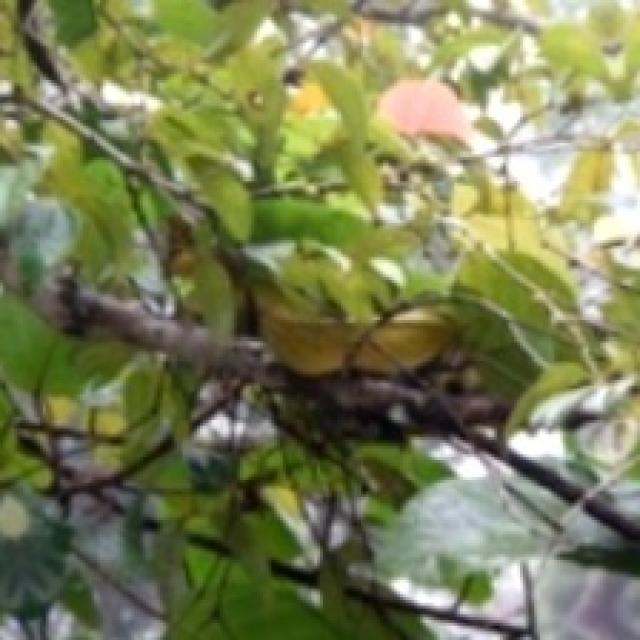red-tailed green ratsnake: (169, 197, 454, 374)
